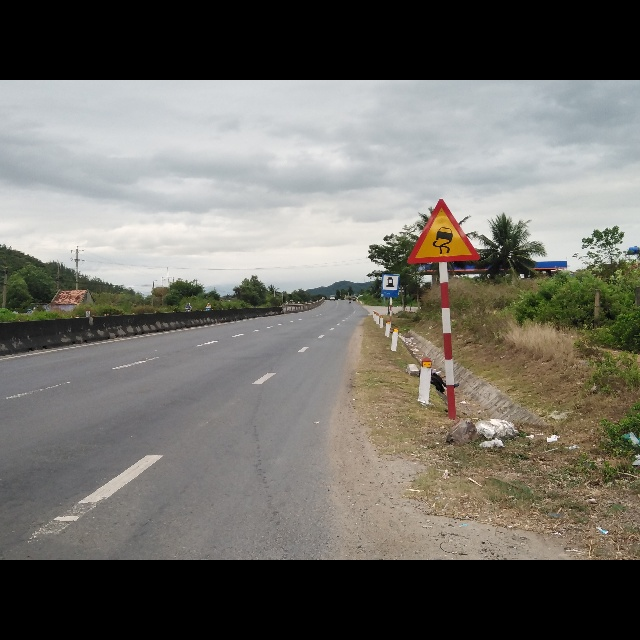Đường trơn trượt: (408, 194, 482, 262)
